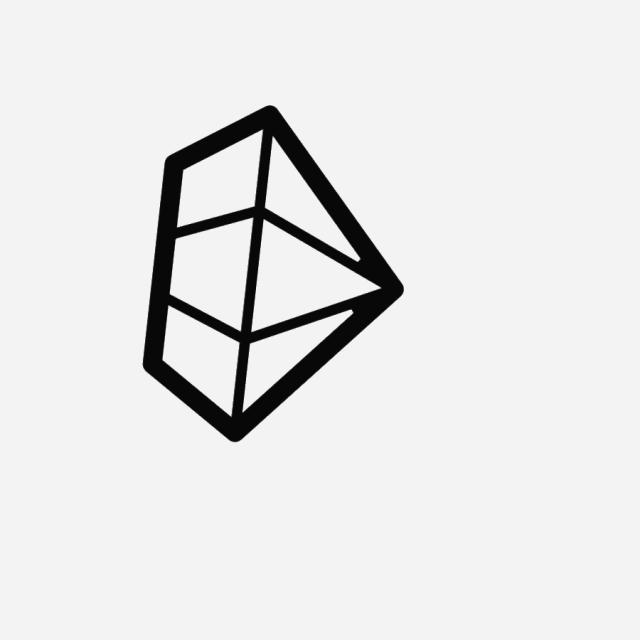diamond: (138, 98, 411, 452)
